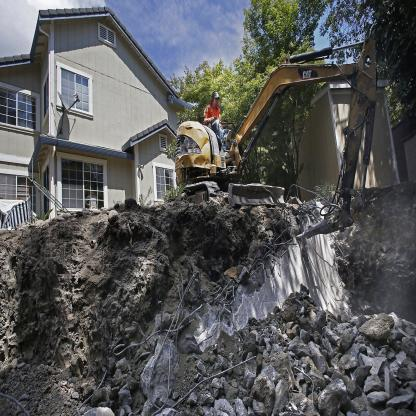rebar: (109, 265, 262, 412), (213, 180, 349, 317), (294, 361, 321, 415), (1, 390, 34, 415)
